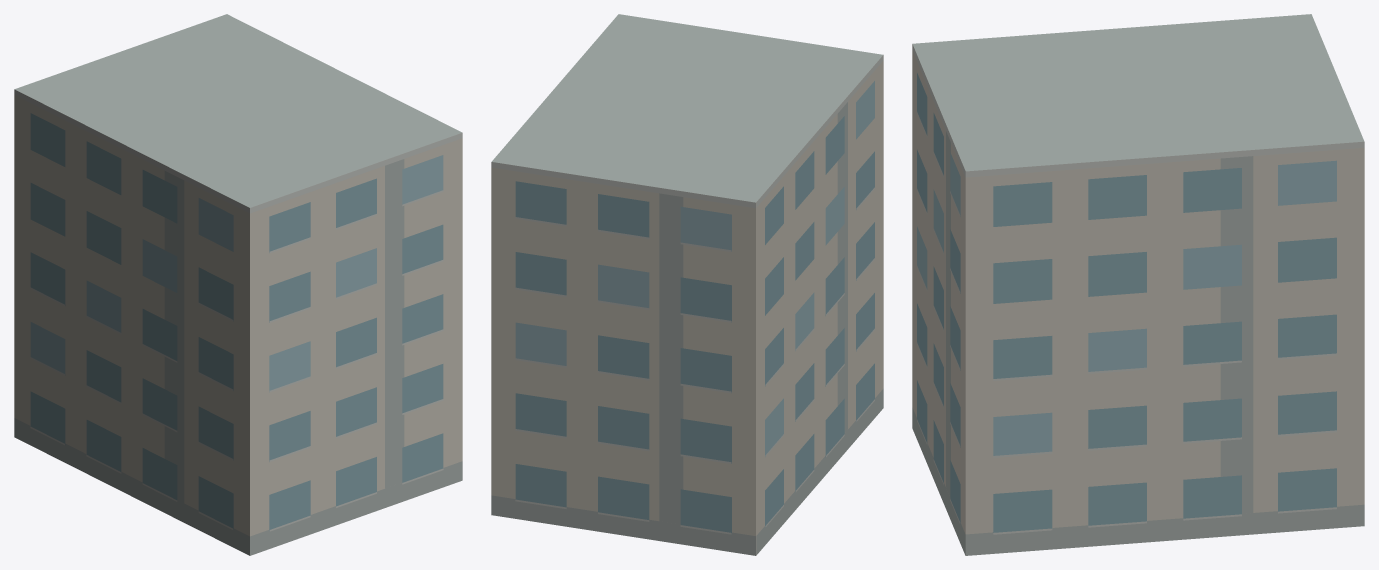
Rendered from residential-7e8987d4-435e-4add-82d5-2aa8dd238d28.glb.
3 views of the same model, side by side, from view 1: azimuth 30°, elevation 25°; view 2: azimuth 150°, elevation 25°; view 3: azimuth 270°, elevation 25° (orthographic). The views are drawn at different scales.
Parts seen in each view (by area): view 1: residential-7e8987d4-435e-4add-82d5-2aa8dd238d28.tmp; view 2: residential-7e8987d4-435e-4add-82d5-2aa8dd238d28.tmp; view 3: residential-7e8987d4-435e-4add-82d5-2aa8dd238d28.tmp.
Part boxes in pixels (x1=…): residential-7e8987d4-435e-4add-82d5-2aa8dd238d28.tmp: x1=14, y1=14, x2=462, y2=555; residential-7e8987d4-435e-4add-82d5-2aa8dd238d28.tmp: x1=491, y1=14, x2=883, y2=555; residential-7e8987d4-435e-4add-82d5-2aa8dd238d28.tmp: x1=912, y1=14, x2=1364, y2=555.
Size of the model in its own units: 13.4 by 15.25 by 16.26.
